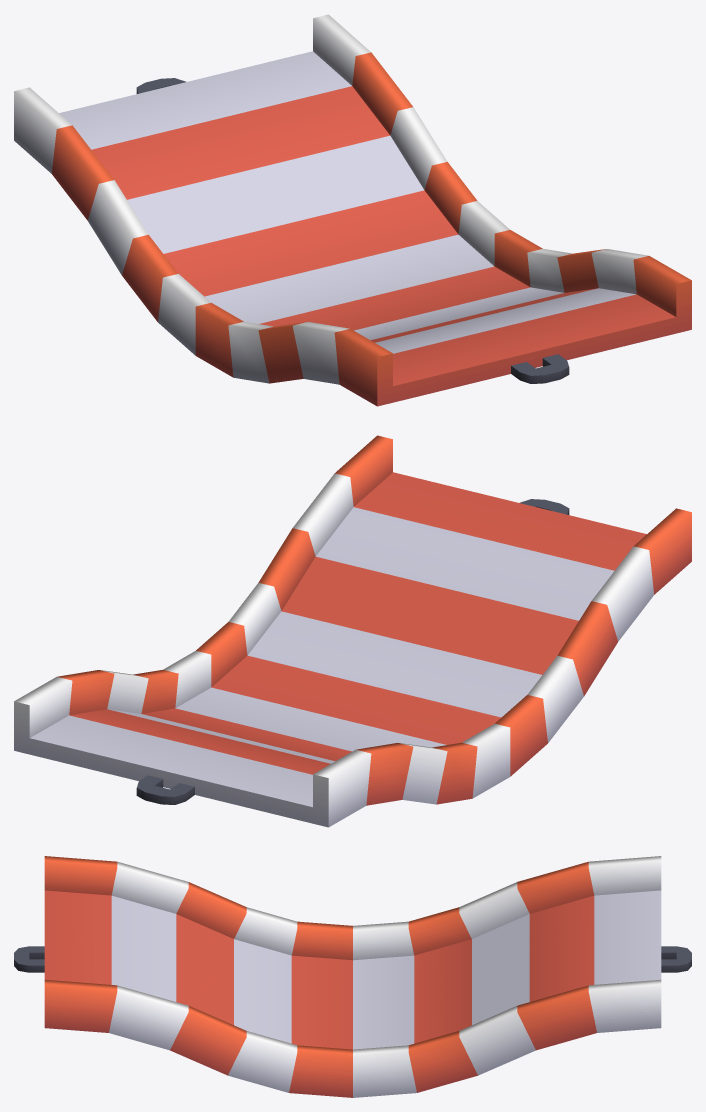
Rendered from track-striped-wide-straight-bump-down.glb.
The picture shows the model from 3 angles, top to bottom: view 1: azimuth 30°, elevation 25°; view 2: azimuth 150°, elevation 25°; view 3: azimuth 270°, elevation 25°; orthographic projection. The views are drawn at different scales.
Parts seen in each view (by area): view 1: track-striped-wide-straight-bump-down; view 2: track-striped-wide-straight-bump-down; view 3: track-striped-wide-straight-bump-down.
Part boxes in pixels (x1,y1,x2,y2): track-striped-wide-straight-bump-down: (14, 14, 691, 406); track-striped-wide-straight-bump-down: (14, 435, 691, 827); track-striped-wide-straight-bump-down: (14, 856, 691, 1097).
Size of the model in its own units: 2 by 0.8001 by 4.4.
1 material, 1 textured.
